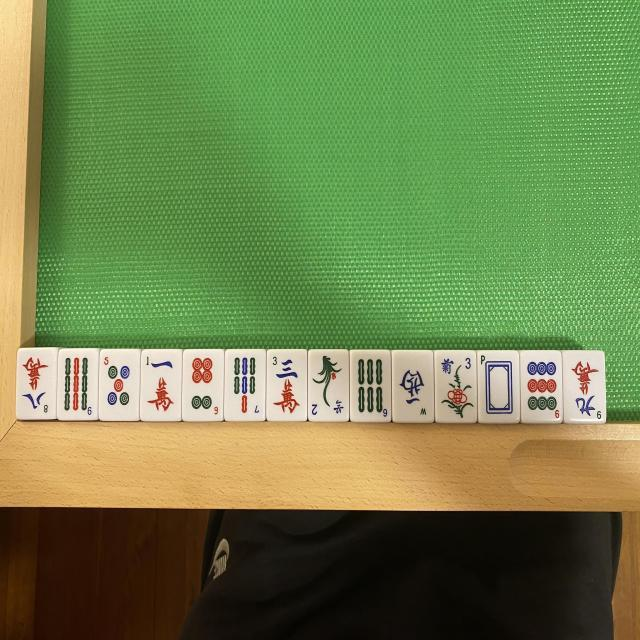bf2: (308, 350, 348, 420)
bf3: (438, 353, 477, 424)
hdw: (480, 352, 520, 423)
hww: (396, 353, 434, 423)
sb6: (350, 352, 390, 422)
sb7: (225, 352, 265, 421)
sb9: (60, 350, 98, 420)
sc1: (142, 350, 180, 420)
sc3: (268, 350, 308, 420)
sc8: (20, 351, 56, 416)
sc9: (564, 353, 604, 423)
sd5: (100, 353, 138, 421)
sd6: (186, 350, 225, 420)
sd9: (526, 350, 564, 420)
